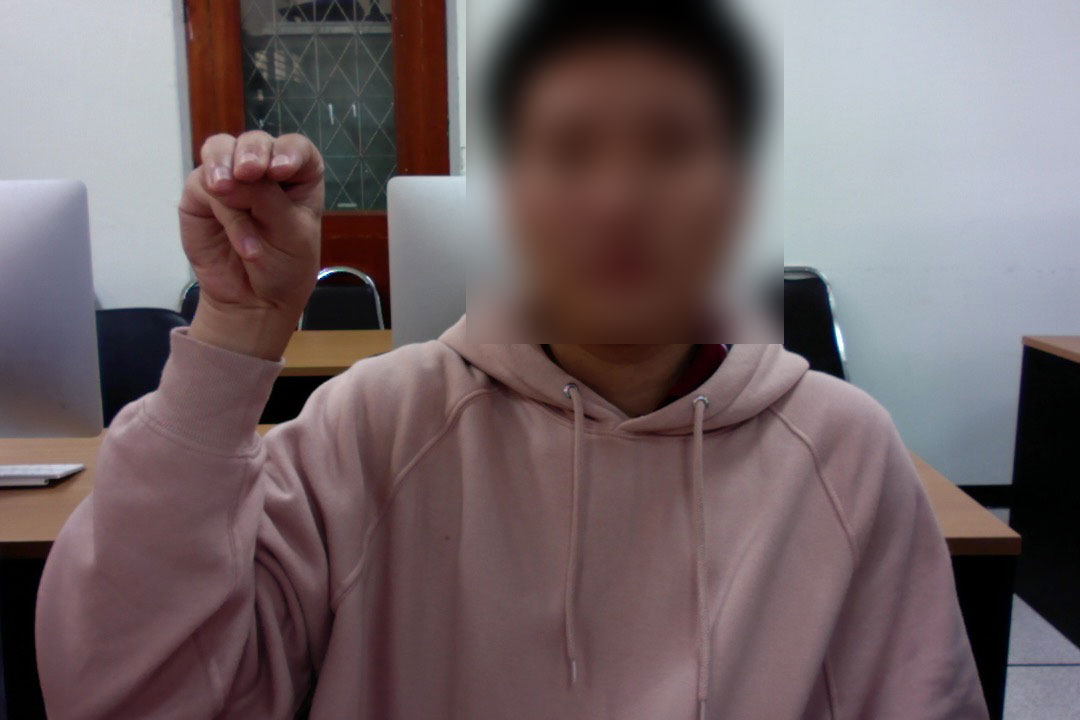mor: (171, 100, 334, 326)
